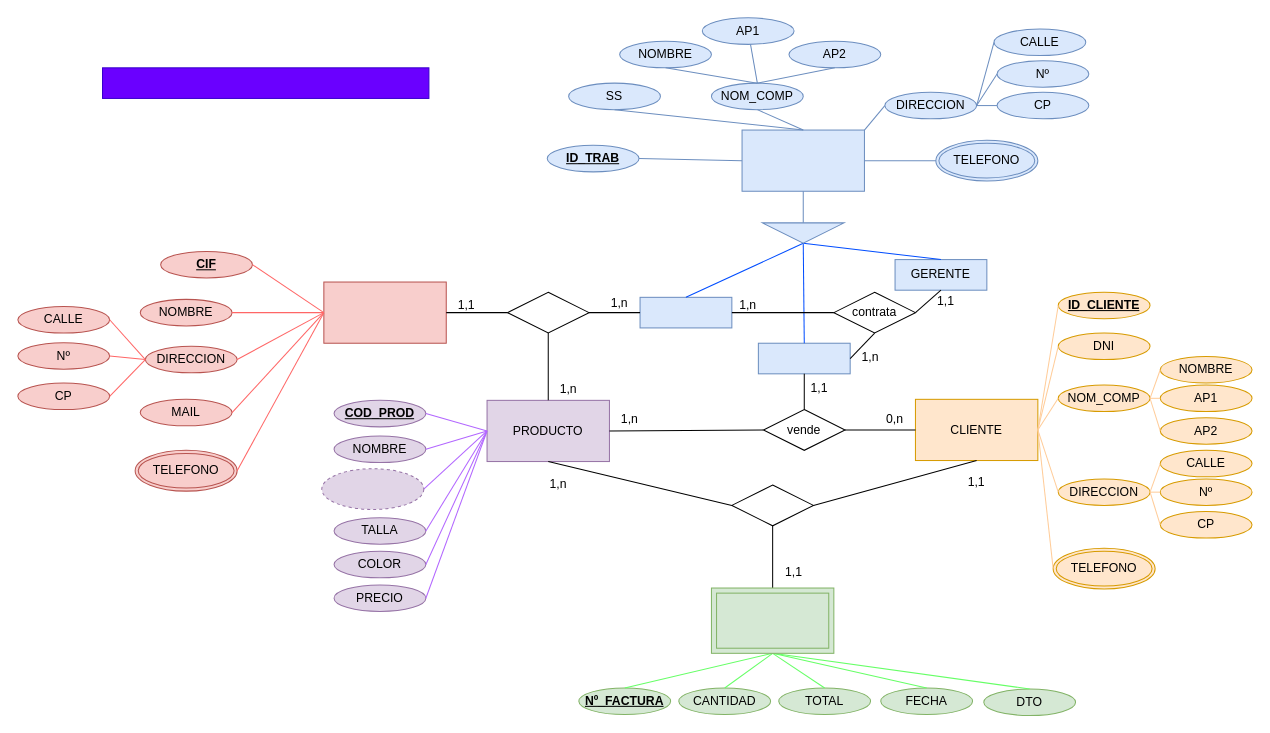
Some shapes in this 1270 by 733 pixel diagram are drawn without their labels. Here are the shapes that lost their labels. From the top down, the centre of each, then its label:
At pixel 265 82: "Tienda de ropa".
At pixel 802 160: "TRABAJADOR".
At pixel 802 232: "P, E".
At pixel 384 312: "PROVEEDOR".
At pixel 547 312: "compra".
At pixel 685 312: "COMERCIAL".
At pixel 803 358: "DEPENDIENTE".
At pixel 372 488: "DESCRIPCION".
At pixel 772 505: "recibe".
At pixel 772 620: "FACTURA".
